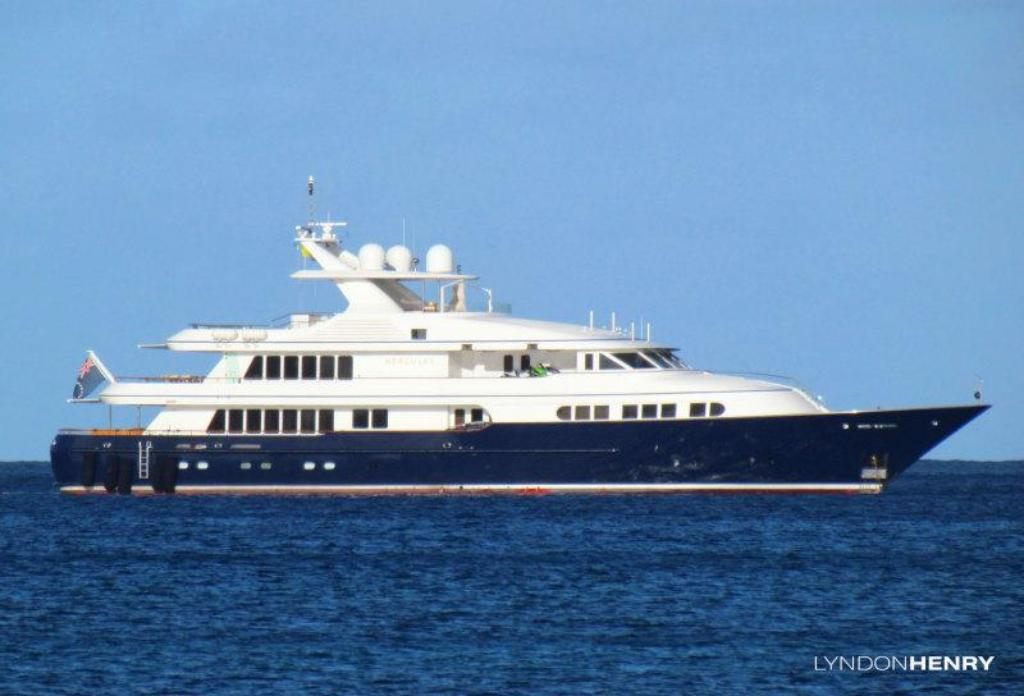PassengerShip: (48, 169, 996, 505)
